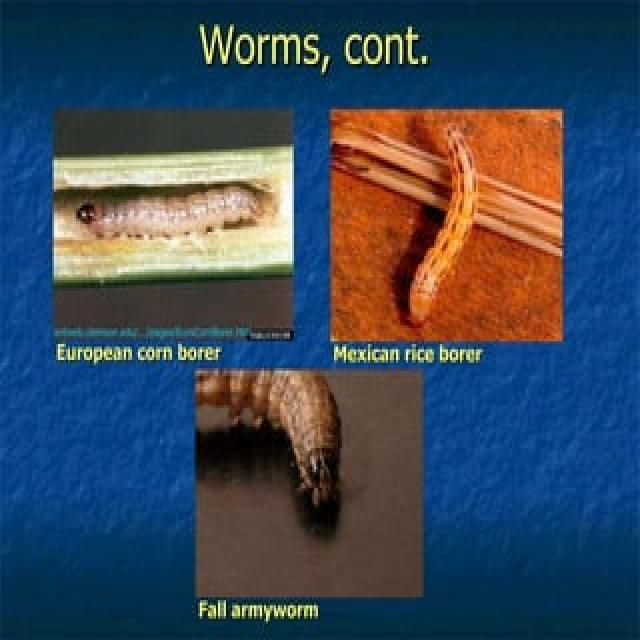cornborer-Larva-: (67, 178, 276, 261)
